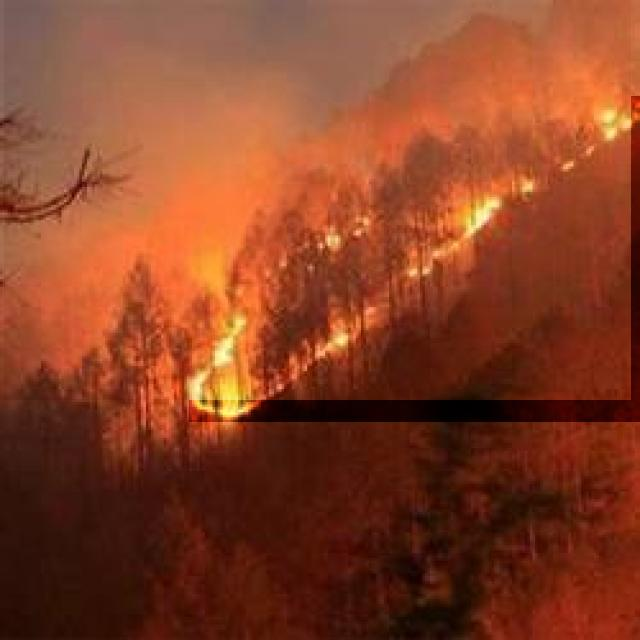Fire: (189, 96, 640, 422)
Smoke: (4, 0, 631, 400)
